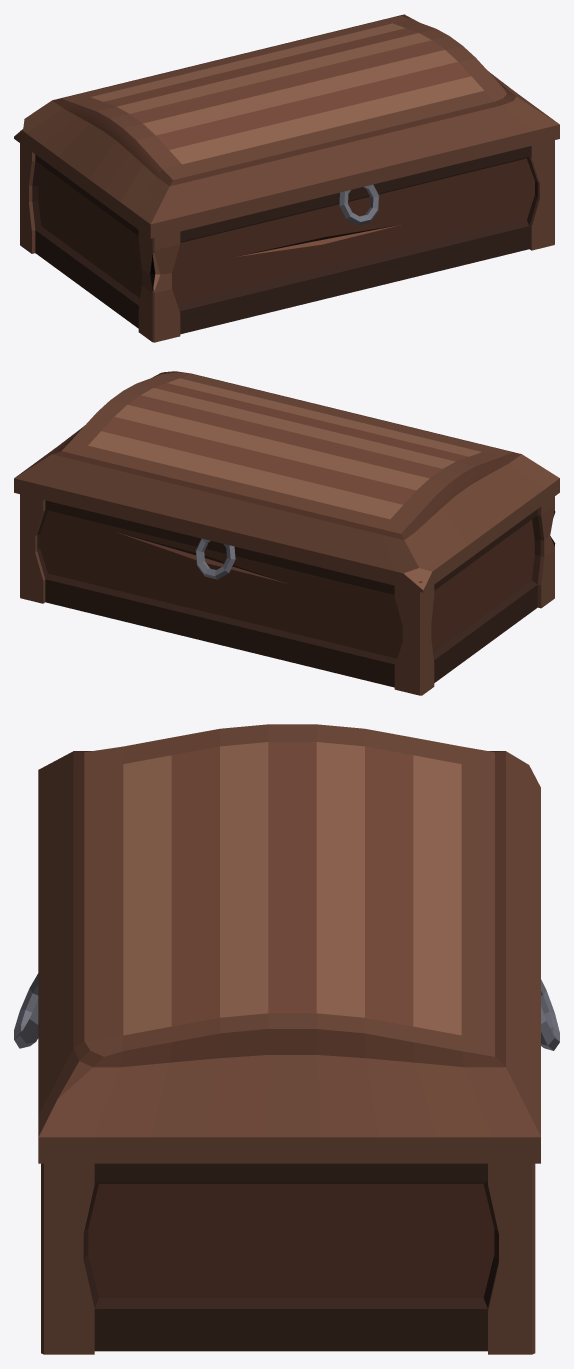
File: Chest_Genesis.glb
3 views of the same model, one above another, from view 1: azimuth 30°, elevation 25°; view 2: azimuth 150°, elevation 25°; view 3: azimuth 270°, elevation 25° (orthographic). The views are drawn at different scales.
Parts seen in each view (by area): view 1: Chest_Box_Top, Chest_Box_Base; view 2: Chest_Box_Top, Chest_Box_Base; view 3: Chest_Box_Top, Chest_Box_Base.
Part boxes in pixels (x1,y1,x2,y2): Chest_Box_Top: (14,14,559,238); Chest_Box_Base: (20,130,554,342); Chest_Box_Top: (14,371,559,592); Chest_Box_Base: (20,494,555,695); Chest_Box_Top: (38,724,540,1163); Chest_Box_Base: (14,973,559,1354).
Size of what is drawn, in the model's own units: 1.32 by 0.4998 by 0.8319.
1 material, 1 textured.
